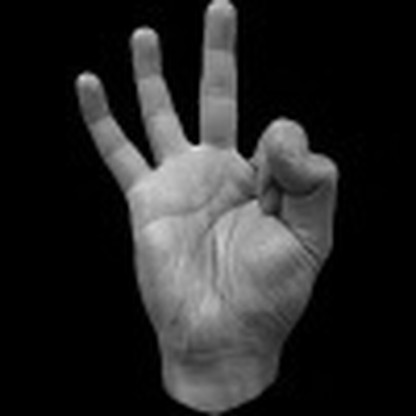f: (71, 1, 344, 342)
